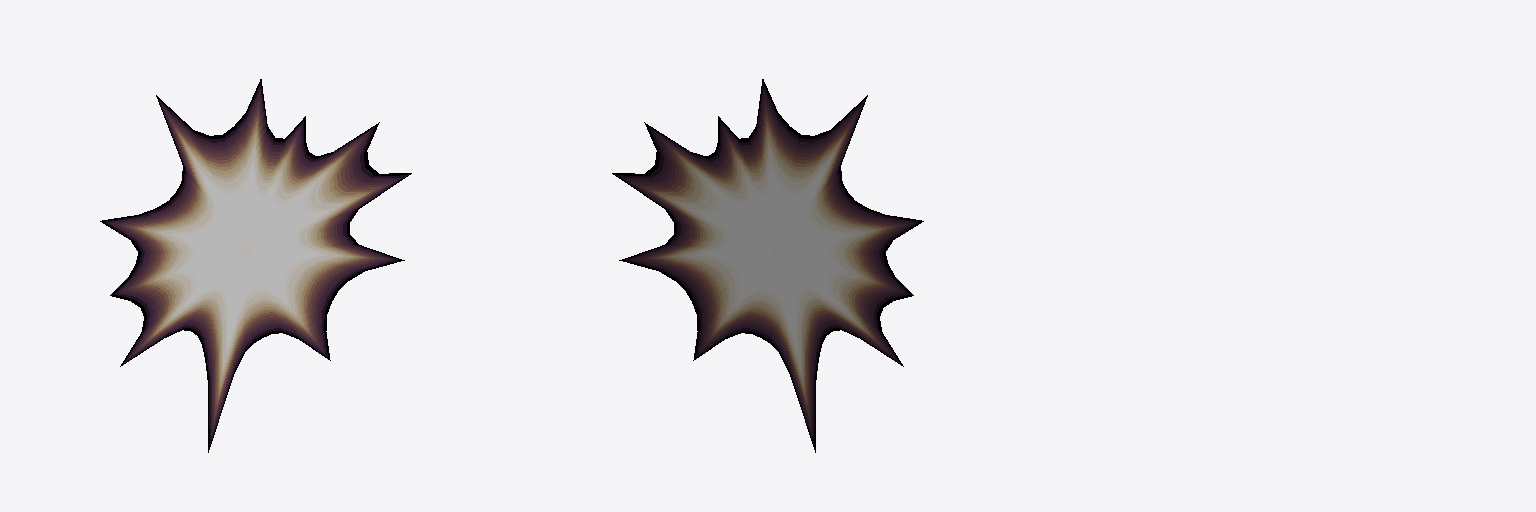
3 renders of one model, left to right at view 1: azimuth 30°, elevation 25°; view 2: azimuth 150°, elevation 25°; view 3: azimuth 270°, elevation 25°, orthographic.
Visible parts, largest first — view 1: polygon0; view 2: polygon0; view 3: none.
Part boxes in pixels (x1,y1,x2,y2): polygon0: (100,79,411,452); polygon0: (612,79,923,452).
Size of the model in its own units: 10.62 by 12.02 by 0.
Materials: 1 (1 with a texture image).